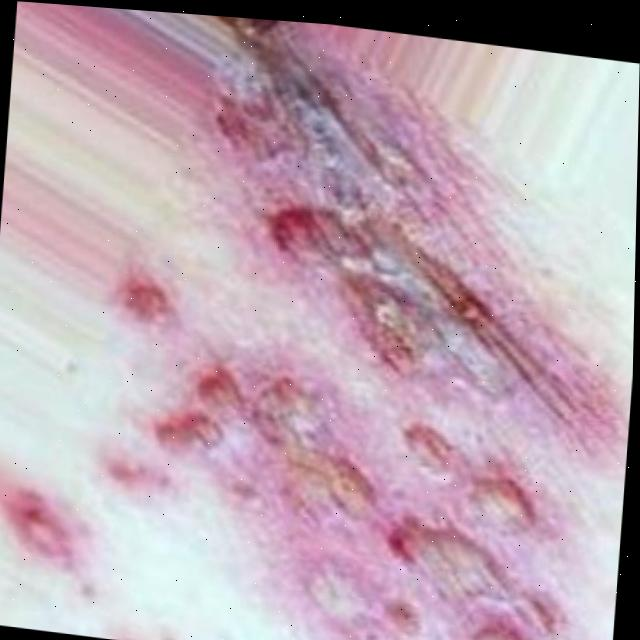Shingles: (8, 2, 640, 640)
